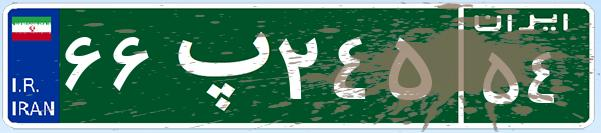2: (273, 28, 330, 110)
4: (330, 28, 385, 110), (525, 38, 570, 115)
5: (385, 28, 445, 110), (475, 38, 525, 113)
6: (57, 26, 110, 107), (110, 28, 158, 105)
پ: (158, 15, 273, 115)
